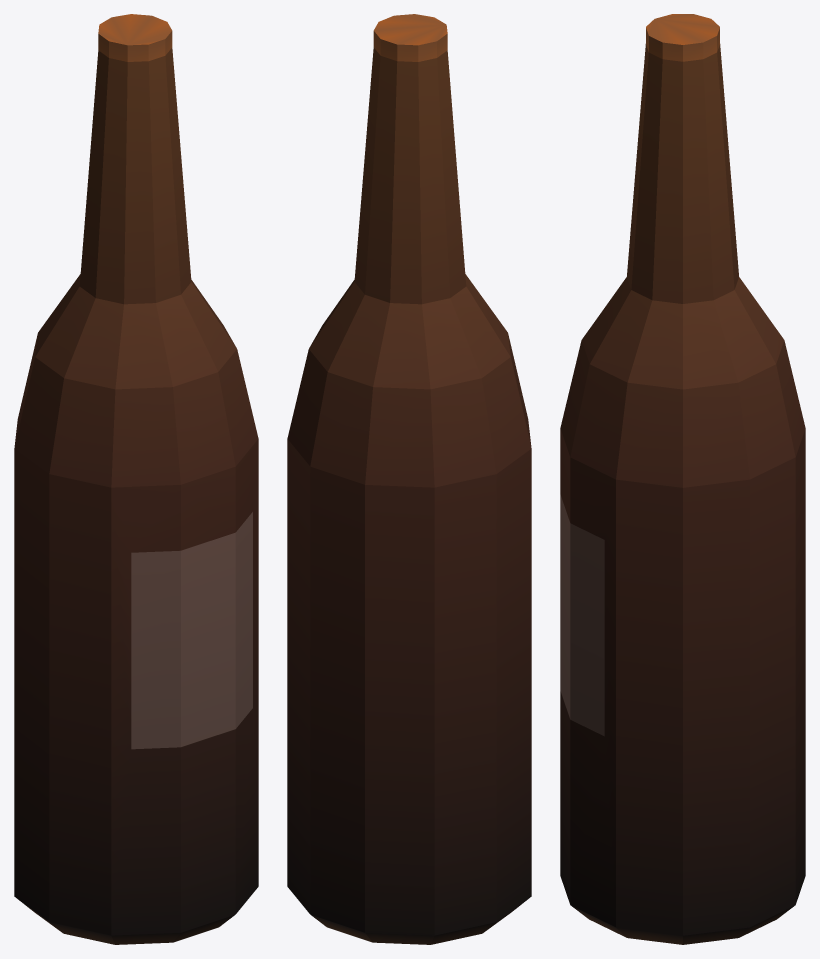
The model's file is Prop_WineBottleB.fbx.
3 renders of one model, left to right at view 1: azimuth 30°, elevation 25°; view 2: azimuth 150°, elevation 25°; view 3: azimuth 270°, elevation 25°, orthographic.
Visible parts, largest first — view 1: Prop_WineBottleB; view 2: Prop_WineBottleB; view 3: Prop_WineBottleB.
Boxes of the visible parts, bbox=[...] form: Prop_WineBottleB: bbox=[14, 14, 258, 944]; Prop_WineBottleB: bbox=[287, 14, 531, 944]; Prop_WineBottleB: bbox=[560, 14, 805, 944].
Bounding box in the file's own units: 12.28 × 48.69 × 12.41.
